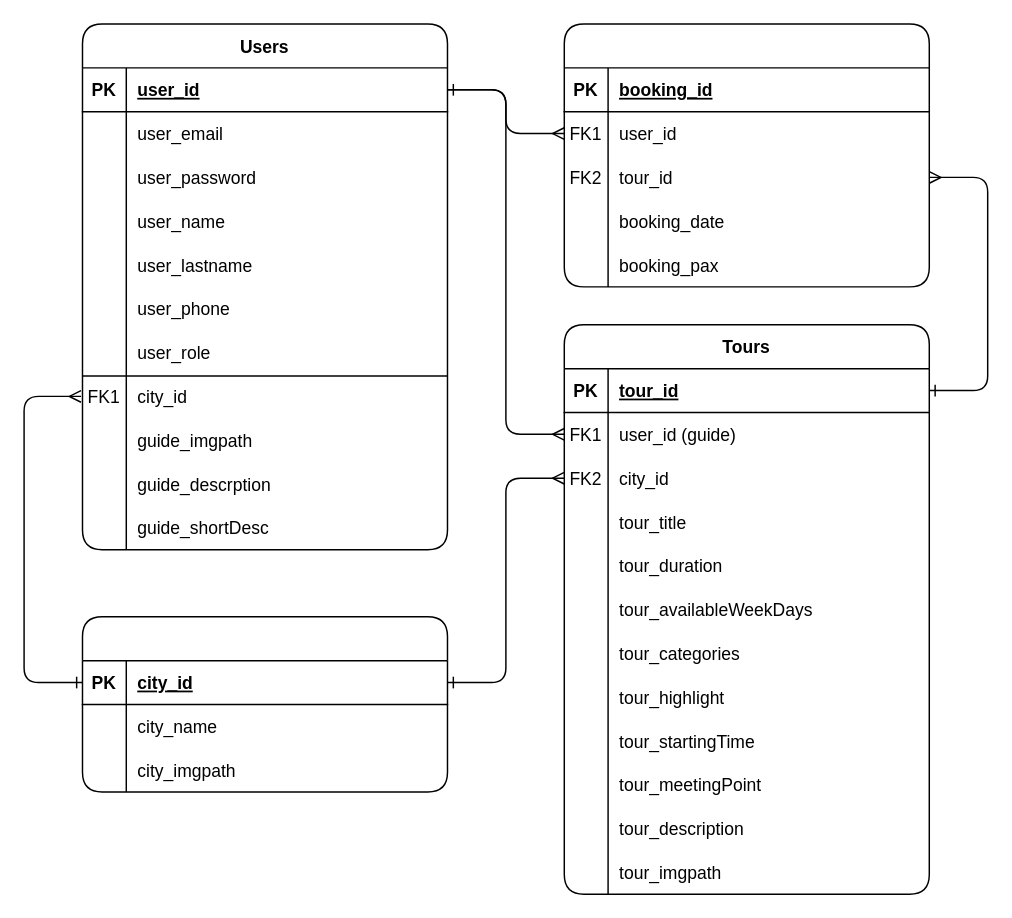
Image size: 1012x918. Some labels were removed from this diagram. Here are the shapes that lost their labels. From the top down, the box of each, then its label:
(563, 23, 929, 287): Bookings
(81, 615, 447, 792): Cities
